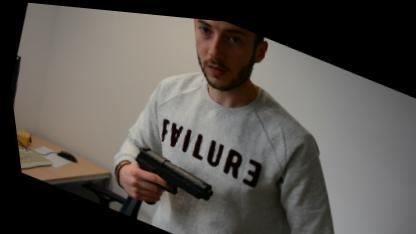pistol: (116, 138, 218, 224)
